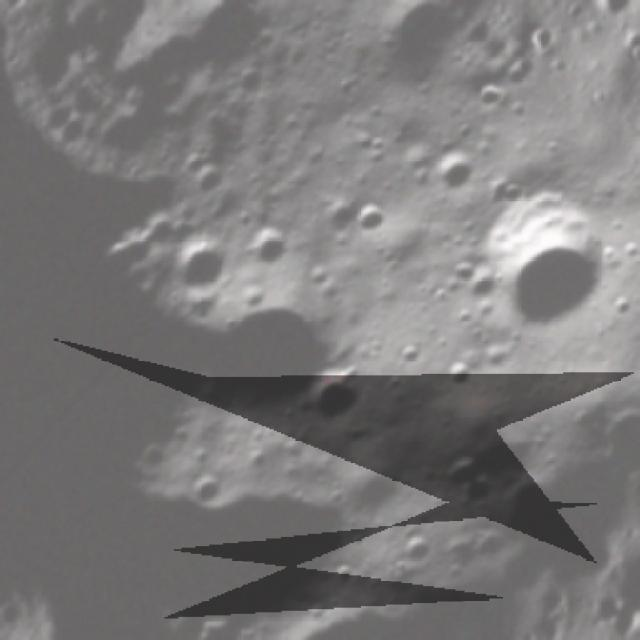crater: (164, 242, 361, 440), (441, 163, 639, 360), (235, 555, 442, 640), (156, 0, 312, 97), (343, 0, 482, 105), (290, 351, 381, 442), (154, 217, 243, 306), (331, 450, 411, 530), (416, 132, 487, 203), (235, 216, 299, 282), (176, 455, 238, 516), (346, 190, 405, 248), (443, 464, 502, 522), (162, 133, 218, 190), (54, 107, 108, 162), (434, 447, 488, 501), (182, 152, 236, 206), (184, 598, 253, 640), (136, 582, 190, 632), (478, 170, 530, 221), (389, 526, 440, 576), (434, 348, 484, 399), (456, 262, 506, 312), (466, 74, 512, 120), (389, 333, 433, 378), (441, 248, 484, 292), (493, 60, 535, 102), (298, 253, 339, 295), (455, 21, 497, 61), (600, 288, 640, 330), (326, 556, 363, 592), (627, 315, 640, 366), (634, 335, 640, 402), (406, 0, 442, 8)
